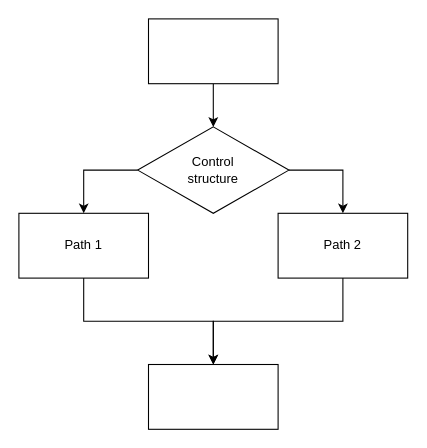
This 427x448 diagram has some shape labels left out. The shapes that lost their labels are listed below. From the top down, each one's centre as x and y in pixels, then its label:
At point (212, 51): "Program sequence".
At point (212, 396): "Program sequence continuation".
